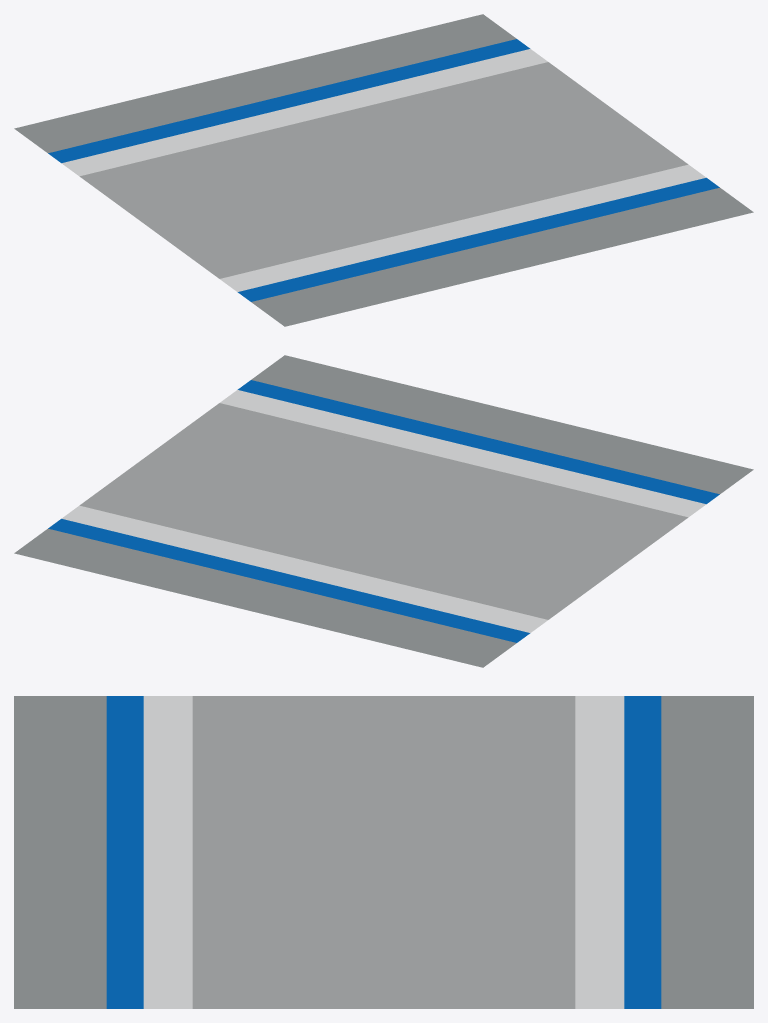
Rendered from Ceiling_type_A_053.fbx.
3 renders of one model, top to bottom at view 1: azimuth 30°, elevation 25°; view 2: azimuth 150°, elevation 25°; view 3: azimuth 270°, elevation 25°, orthographic. The views are drawn at different scales.
Visible parts, largest first — view 1: Ceiling_type_A_053; view 2: Ceiling_type_A_053; view 3: Ceiling_type_A_053.
Boxes of the visible parts, left/top/right/bottom form: Ceiling_type_A_053: left=14, top=14, right=753, bottom=326; Ceiling_type_A_053: left=14, top=355, right=753, bottom=667; Ceiling_type_A_053: left=14, top=696, right=753, bottom=1008.
Bounding box in the file's own units: 400 × 400 × 3.5.
